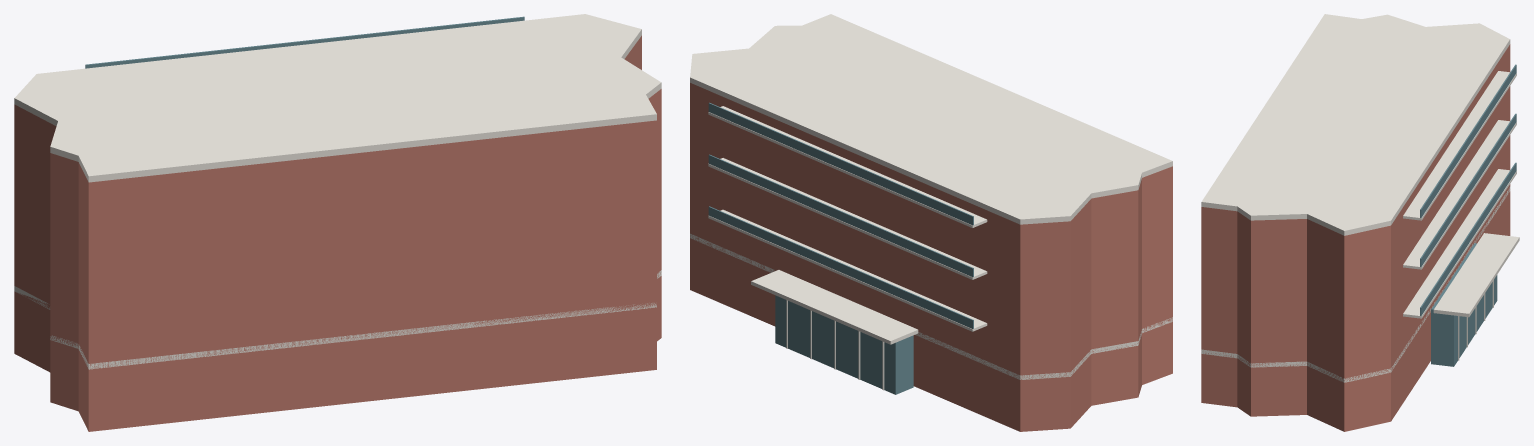
File: cma.glb
The picture shows the model from 3 angles, left to right: view 1: azimuth 30°, elevation 25°; view 2: azimuth 150°, elevation 25°; view 3: azimuth 270°, elevation 25°; orthographic projection. The views are drawn at different scales.
Visible parts, largest first — view 1: CMA_tower, CMA_roof_slab, CMA_podium, CMA_band, CMA_rail_2; view 2: CMA_tower, CMA_roof_slab, CMA_podium, CMA_atrium, CMA_canopy, CMA_rail_2, CMA_rail_1, CMA_rail_0, CMA_terrace_0, CMA_terrace_1, CMA_terrace_2, CMA_band; view 3: CMA_roof_slab, CMA_tower, CMA_podium, CMA_canopy, CMA_atrium, CMA_terrace_0, CMA_terrace_1, CMA_terrace_2, CMA_band, CMA_rail_0, CMA_rail_1, CMA_rail_2.
Part boxes in pixels (left/top/right/bottom): CMA_tower: left=14, top=35, right=661, bottom=368; CMA_roof_slab: left=14, top=14, right=661, bottom=182; CMA_podium: left=14, top=276, right=661, bottom=431; CMA_band: left=14, top=270, right=661, bottom=369; CMA_rail_2: left=85, top=16, right=524, bottom=68; CMA_tower: left=690, top=83, right=1172, bottom=379; CMA_roof_slab: left=690, top=14, right=1172, bottom=224; CMA_podium: left=690, top=238, right=1172, bottom=431; CMA_atrium: left=775, top=295, right=913, bottom=394; CMA_canopy: left=751, top=270, right=918, bottom=344; CMA_rail_2: left=708, top=102, right=973, bottom=225; CMA_rail_1: left=708, top=154, right=973, bottom=277; CMA_rail_0: left=708, top=206, right=973, bottom=328; CMA_terrace_0: left=708, top=209, right=987, bottom=331; CMA_terrace_1: left=708, top=158, right=987, bottom=279; CMA_terrace_2: left=708, top=106, right=987, bottom=227; CMA_band: left=690, top=233, right=1172, bottom=379; CMA_roof_slab: left=1201, top=14, right=1510, bottom=235; CMA_tower: left=1201, top=44, right=1510, bottom=382; CMA_podium: left=1201, top=191, right=1510, bottom=431; CMA_canopy: left=1433, top=233, right=1519, bottom=317; CMA_atrium: left=1431, top=243, right=1497, bottom=366; CMA_terrace_0: left=1403, top=169, right=1516, bottom=318; CMA_terrace_1: left=1403, top=120, right=1516, bottom=269; CMA_terrace_2: left=1403, top=71, right=1516, bottom=220; CMA_band: left=1201, top=187, right=1510, bottom=382; CMA_rail_0: left=1420, top=162, right=1516, bottom=315; CMA_rail_1: left=1420, top=113, right=1516, bottom=266; CMA_rail_2: left=1420, top=64, right=1516, bottom=217.
Bounding box in the file's own units: 47.47 × 20.5 × 29.41.
